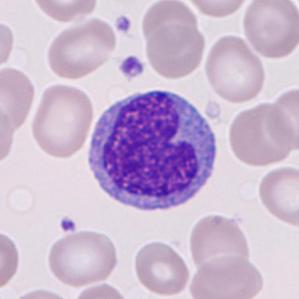Monocyte: (82, 83, 224, 217)
Platelets: (117, 54, 146, 79), (113, 14, 133, 35), (57, 215, 78, 234)
RBC: (28, 80, 96, 160), (43, 15, 118, 81), (225, 100, 296, 168), (202, 32, 268, 105), (44, 227, 120, 288), (186, 211, 253, 273), (186, 253, 266, 299), (144, 23, 208, 80), (131, 238, 192, 297), (240, 0, 298, 60), (139, 0, 201, 50), (256, 163, 298, 229), (0, 63, 37, 133), (262, 84, 299, 152), (29, 0, 100, 23), (0, 227, 23, 292), (183, 0, 255, 20), (3, 183, 39, 217), (70, 280, 131, 299), (0, 101, 16, 168), (7, 286, 76, 299), (0, 17, 16, 70)
